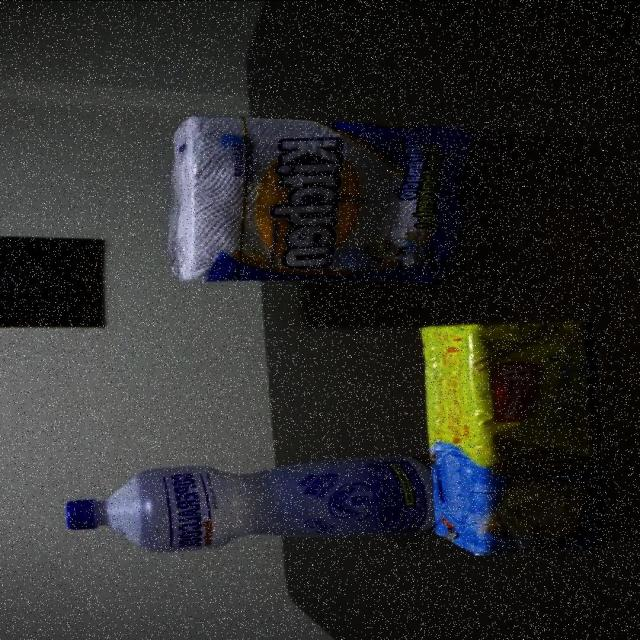AlcoholBottle: (65, 454, 435, 553)
Cracker: (424, 320, 604, 553)
Napkin: (171, 114, 473, 285)
